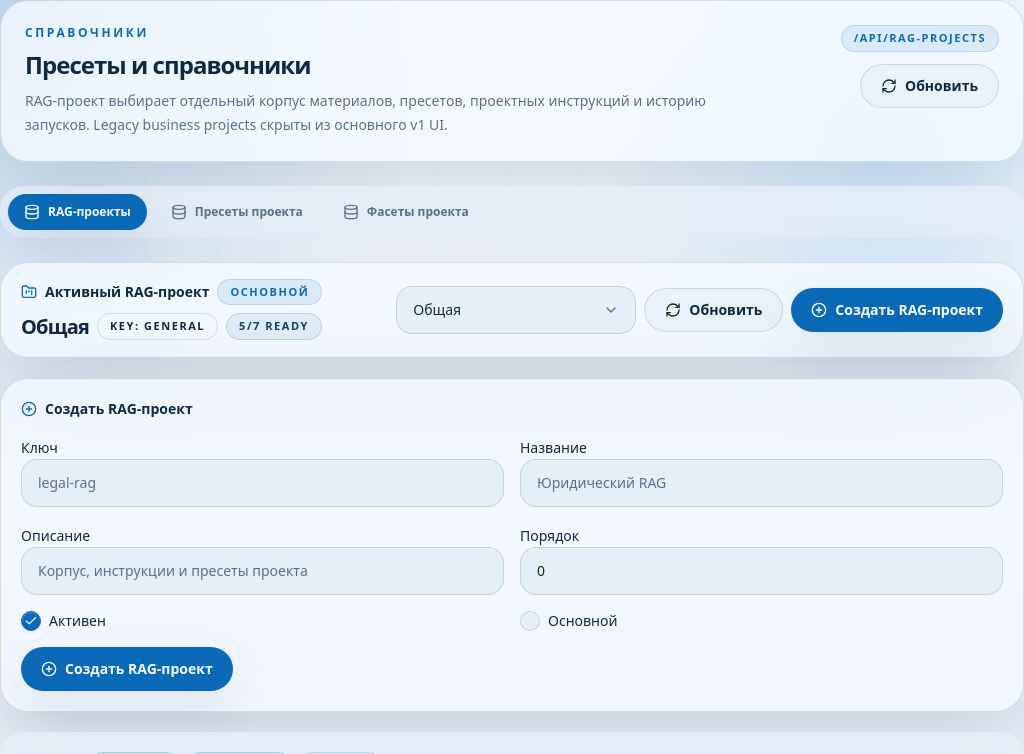
Test: ReferenceDataPanel › renders RAG-projects and project presets while hiding legacy project tabs
Expected: the text "Активный RAG-проект" is shown, [45, 282, 210, 301]
Expected: the button "Создать RAG-проект" in the row of "Активный RAG-проект" is shown, [791, 288, 1003, 332]
Click the button "Пресеты проекта".
click(237, 212)  # box [155, 194, 319, 230]
(page scrolled)
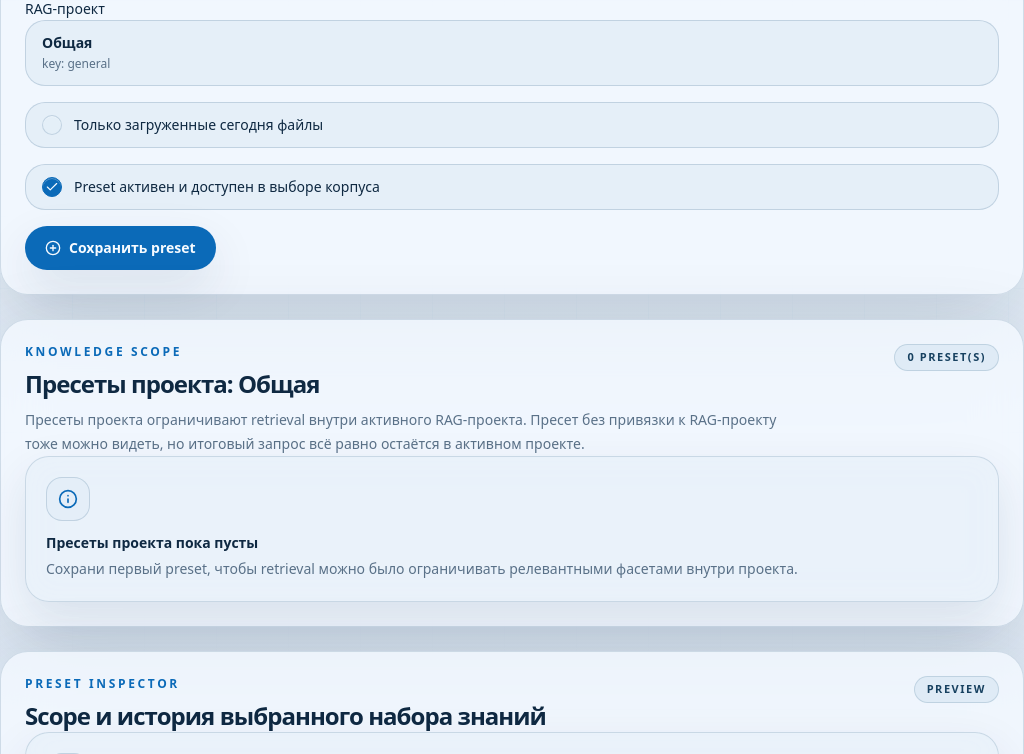
Result: the text "Активный RAG-проект" is gone
Result: the heading "Пресеты проекта: Общая" is shown at [25, 367, 320, 400]
